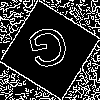G: (25, 25, 74, 79)
